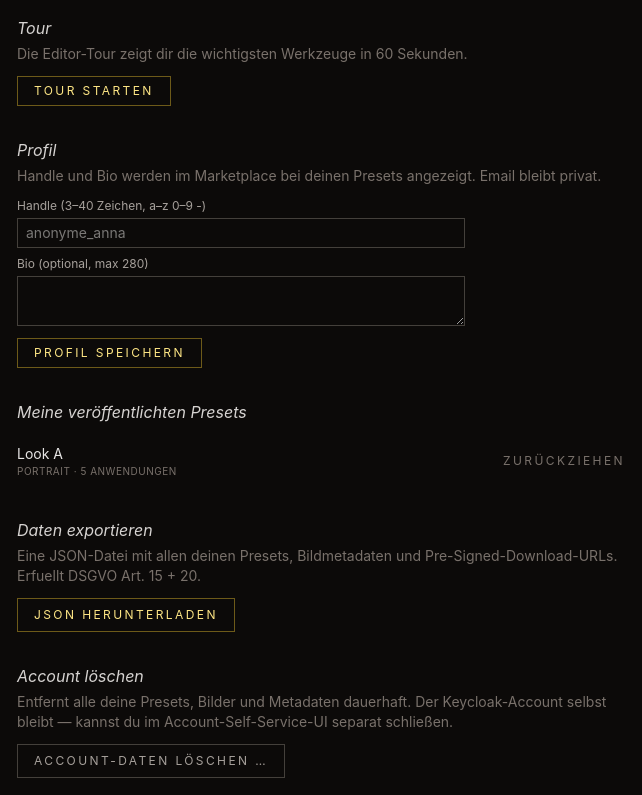
it: Account › Zurueckziehen ruft updatePreset mit visibility=private
The width and height of the screenshot is (642, 795).
(page scrolled)
Click the button with test id "account-unpublish-a".
click(564, 461)  # box 503,453 -> 625,469
(page scrolled)
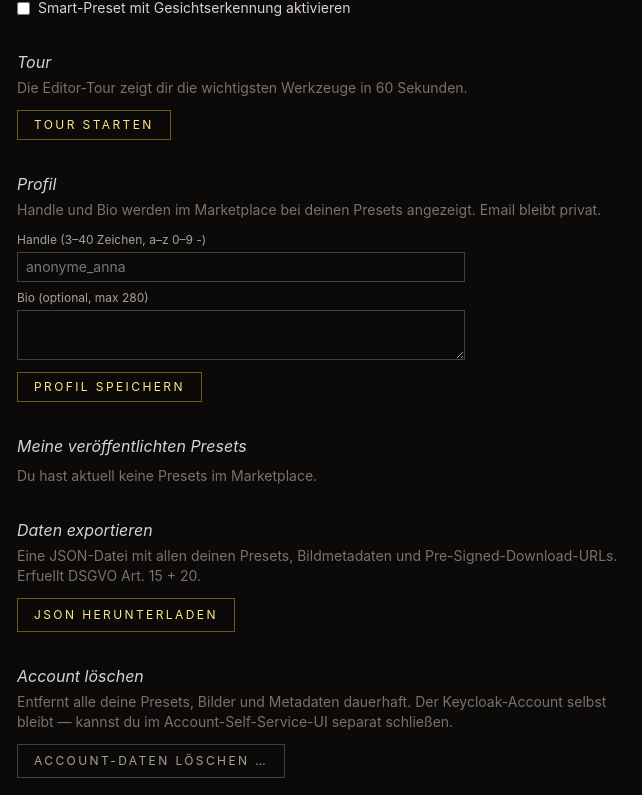
Now the list item with test id "account-published-a" is gone
